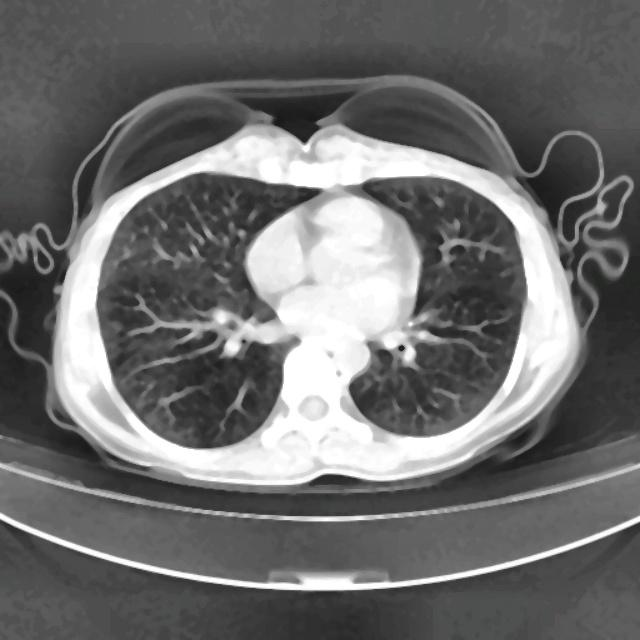covid: (40, 80, 605, 493)
